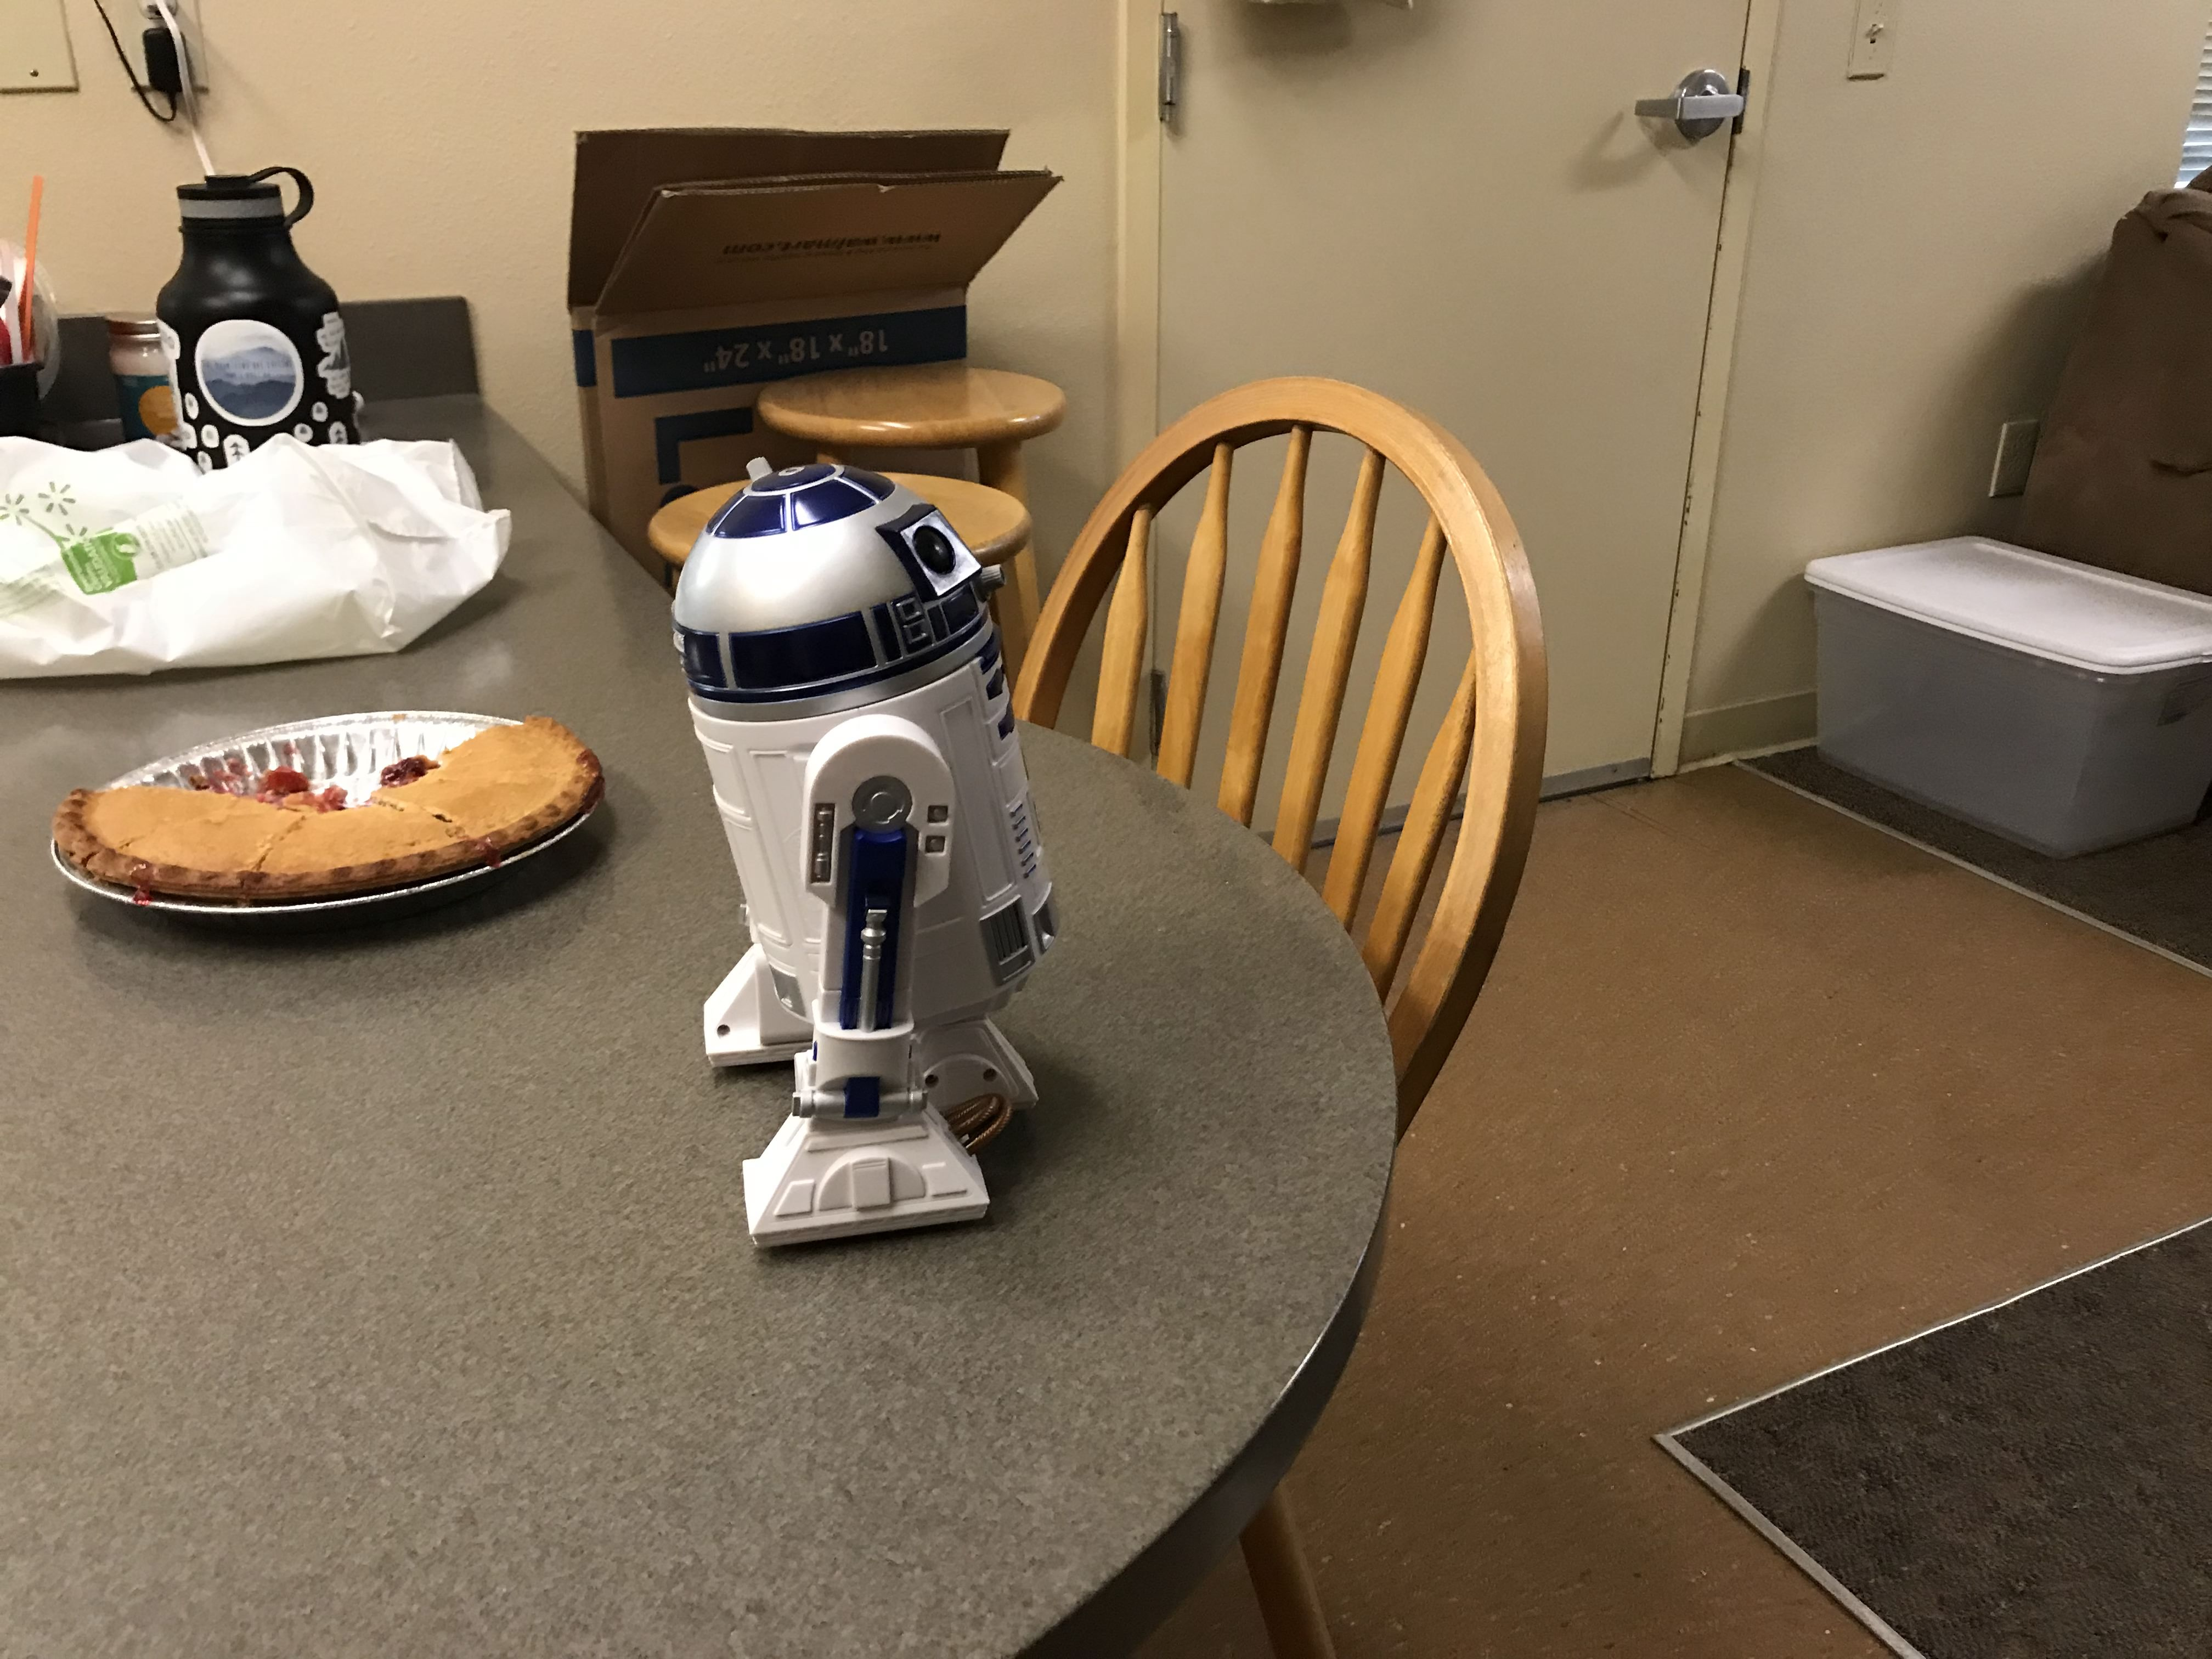r2d2: (672, 460, 1055, 1244)
